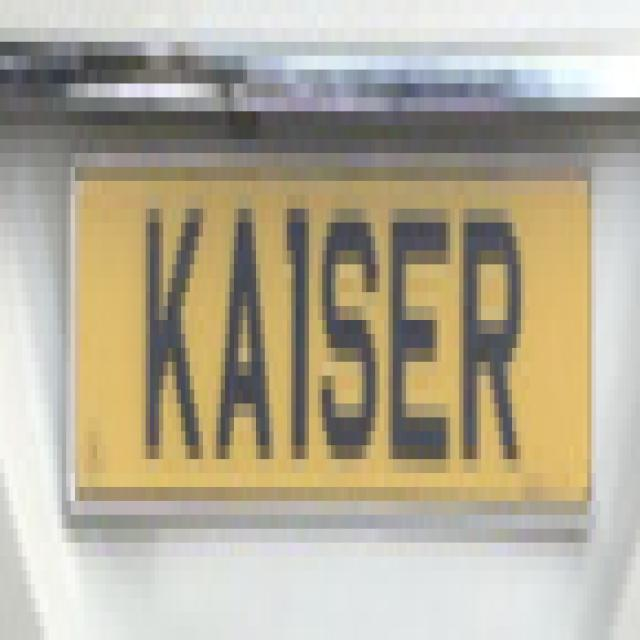1: (282, 186, 316, 480)
A: (214, 174, 277, 479)
E: (387, 190, 452, 468)
K: (140, 174, 209, 479)
R: (456, 185, 526, 472)
S: (318, 192, 380, 476)
